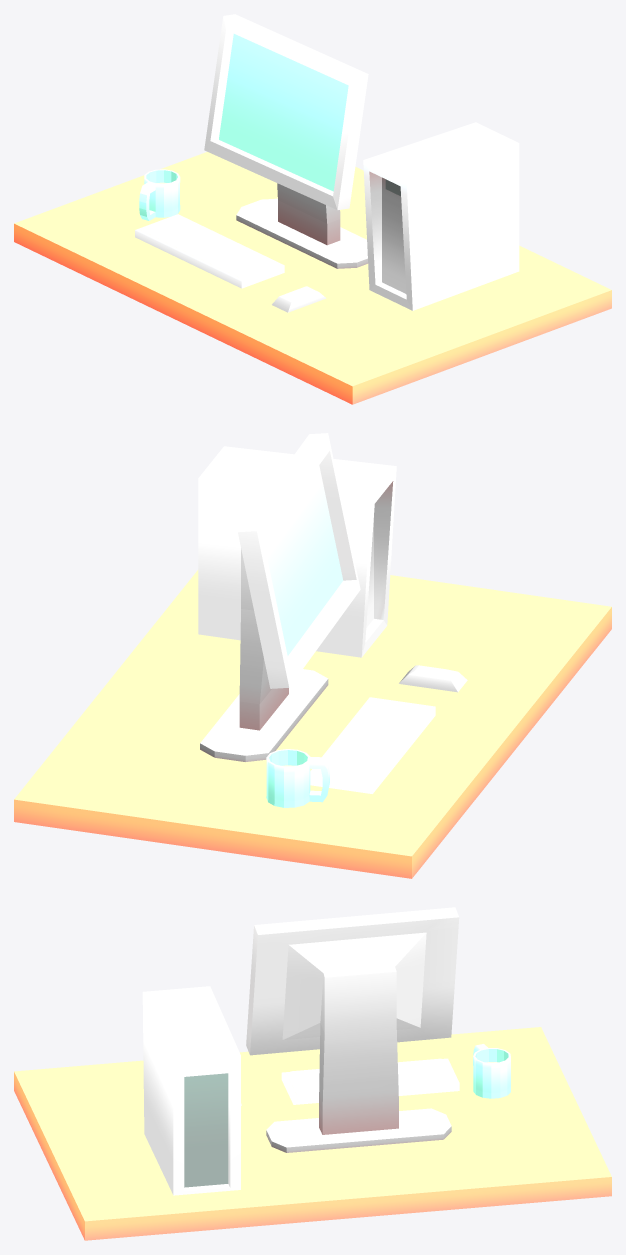
Rendered from desk.glb.
The picture shows the model from 3 angles, top to bottom: view 1: azimuth 30°, elevation 25°; view 2: azimuth 150°, elevation 25°; view 3: azimuth 270°, elevation 25°; orthographic projection. The views are drawn at different scales.
Visible parts, largest first — view 1: Cube_0; view 2: Cube_0; view 3: Cube_0.
Part boxes in pixels (left/top/right/bottom): Cube_0: left=14, top=14, right=611, bottom=404; Cube_0: left=14, top=433, right=611, bottom=878; Cube_0: left=14, top=907, right=611, bottom=1240.
Size of the model in its own units: 6.2 by 3.37 by 8.06.
